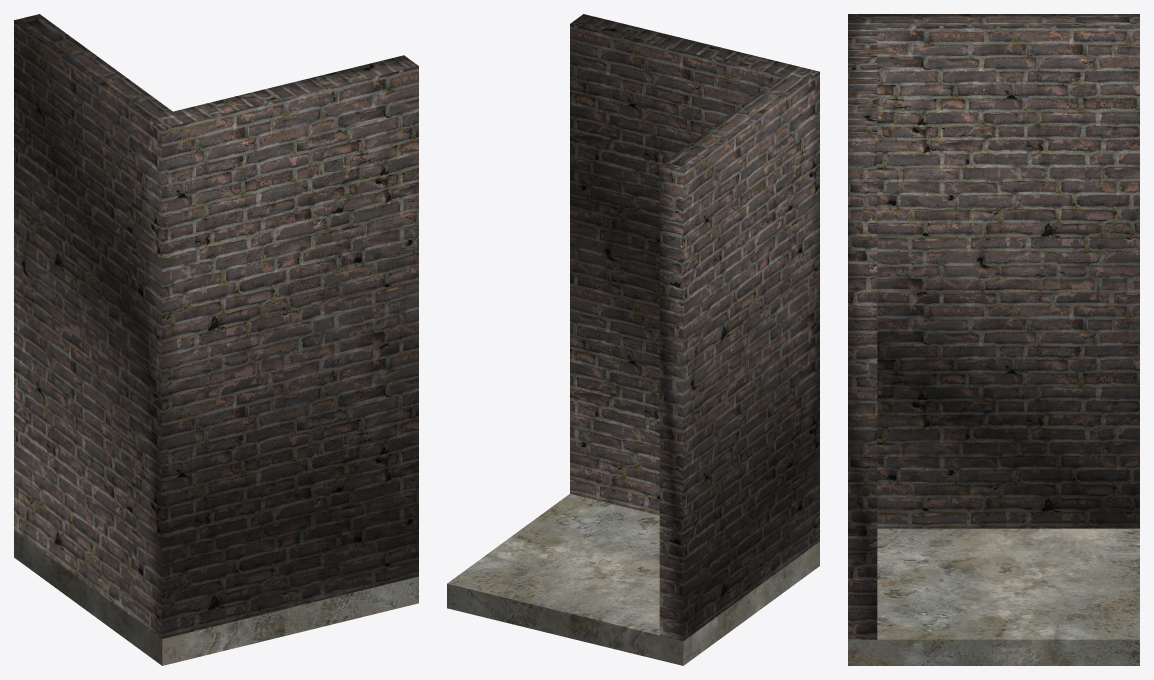
Rendered from Corner_floor_end_nodoor.fbx.
The picture shows the model from 3 angles, left to right: view 1: azimuth 30°, elevation 25°; view 2: azimuth 150°, elevation 25°; view 3: azimuth 270°, elevation 25°; orthographic projection. The views are drawn at different scales.
Parts seen in each view (by area): view 1: Wall_floor_noroof_end_nodoor_corner; view 2: Wall_floor_noroof_end_nodoor_corner; view 3: Wall_floor_noroof_end_nodoor_corner.
Boxes of the visible parts, x1=… form: Wall_floor_noroof_end_nodoor_corner: x1=14, y1=14, x2=418, y2=665; Wall_floor_noroof_end_nodoor_corner: x1=447, y1=14, x2=819, y2=665; Wall_floor_noroof_end_nodoor_corner: x1=848, y1=14, x2=1139, y2=665.
Bounding box in the file's own units: 100 × 200 × 100.
